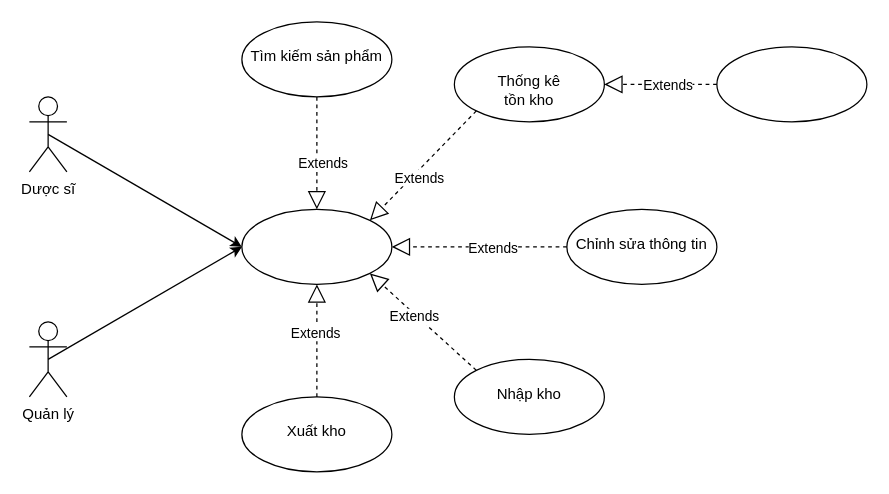
The diagram is 889 pixels wide and 494 high, and some of its shapes have lost their labels. The centre of each missing label's shape, as x and y in pixels:
"Quản lý sản phẩm" goes at (x=316, y=246).
"Xem thông tin chi tiết" goes at (x=791, y=84).
